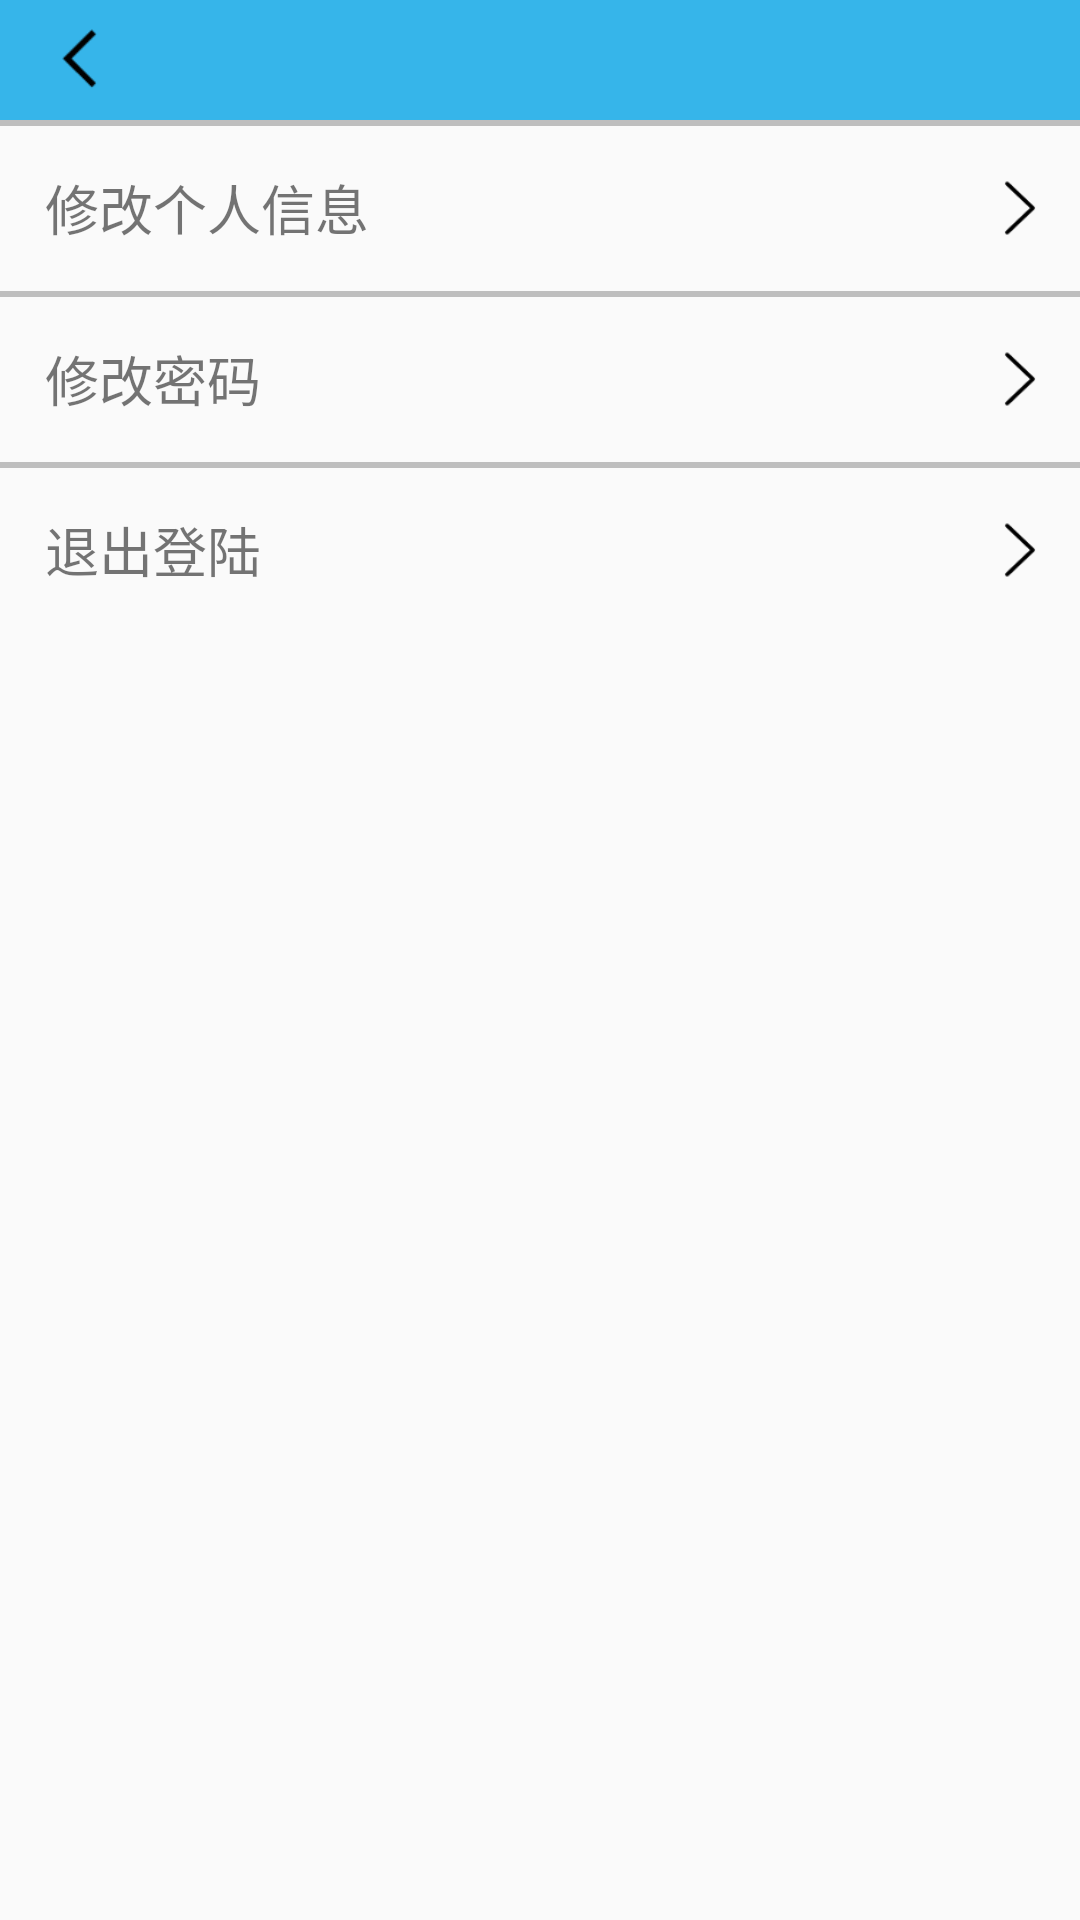

Where to tap for icons on this 1080 x 1920 app screen, as point (x, y):
mine leftarrow: point (79, 58)
mine rightarrow: point (1020, 208), point (1020, 379), point (1020, 550)
